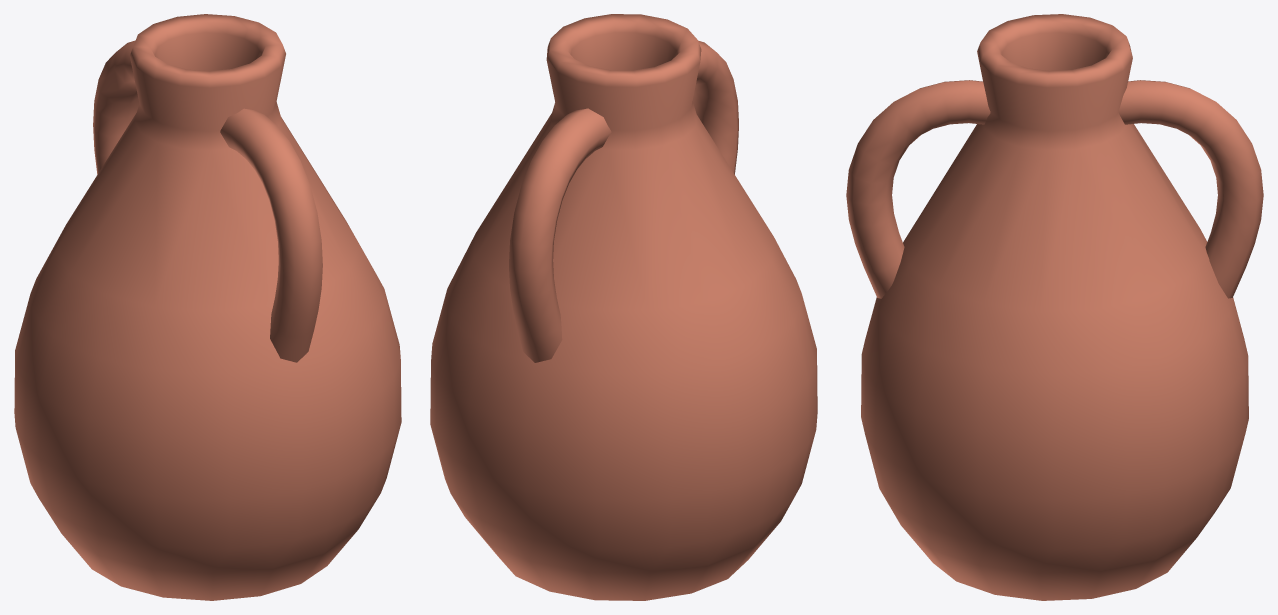
File: ClayPot_06 1.fbx
3 views of the same model, side by side, from view 1: azimuth 30°, elevation 25°; view 2: azimuth 150°, elevation 25°; view 3: azimuth 270°, elevation 25° (orthographic).
Parts seen in each view (by area): view 1: ClayPot_06; view 2: ClayPot_06; view 3: ClayPot_06.
Boxes of the visible parts, <box> form: ClayPot_06: <box>14,14,401,600</box>; ClayPot_06: <box>430,14,817,600</box>; ClayPot_06: <box>846,14,1263,600</box>.
Size of the model in its own units: 35.45 by 50.61 by 38.15.
